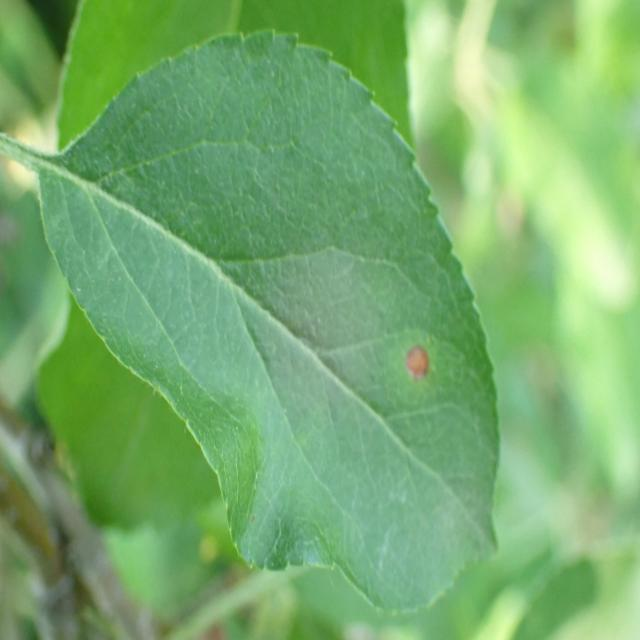Black Rot: (391, 330, 439, 415)
